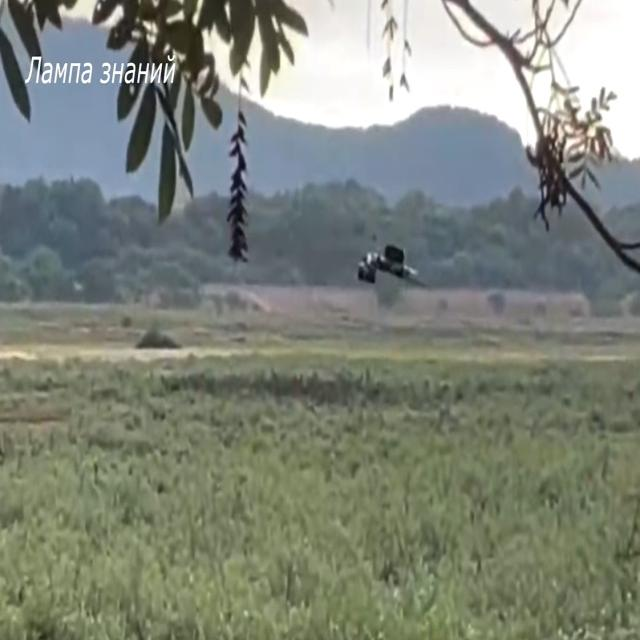drone: (358, 240, 420, 305)
